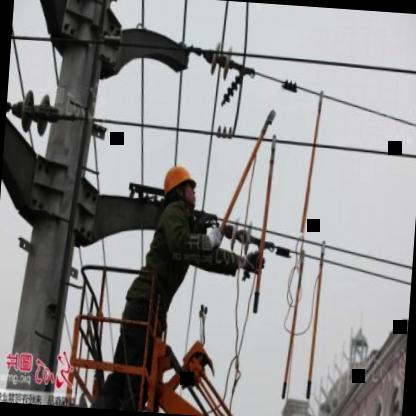helmet: (160, 162, 199, 217)
